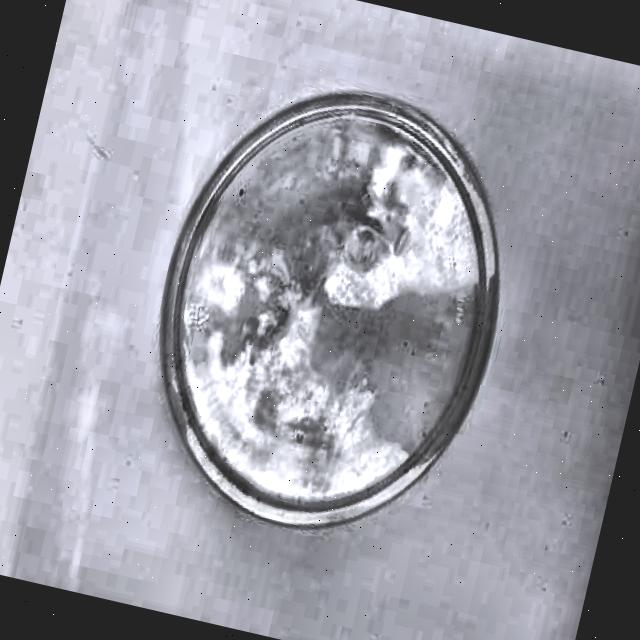plastic: (120, 54, 538, 558)
